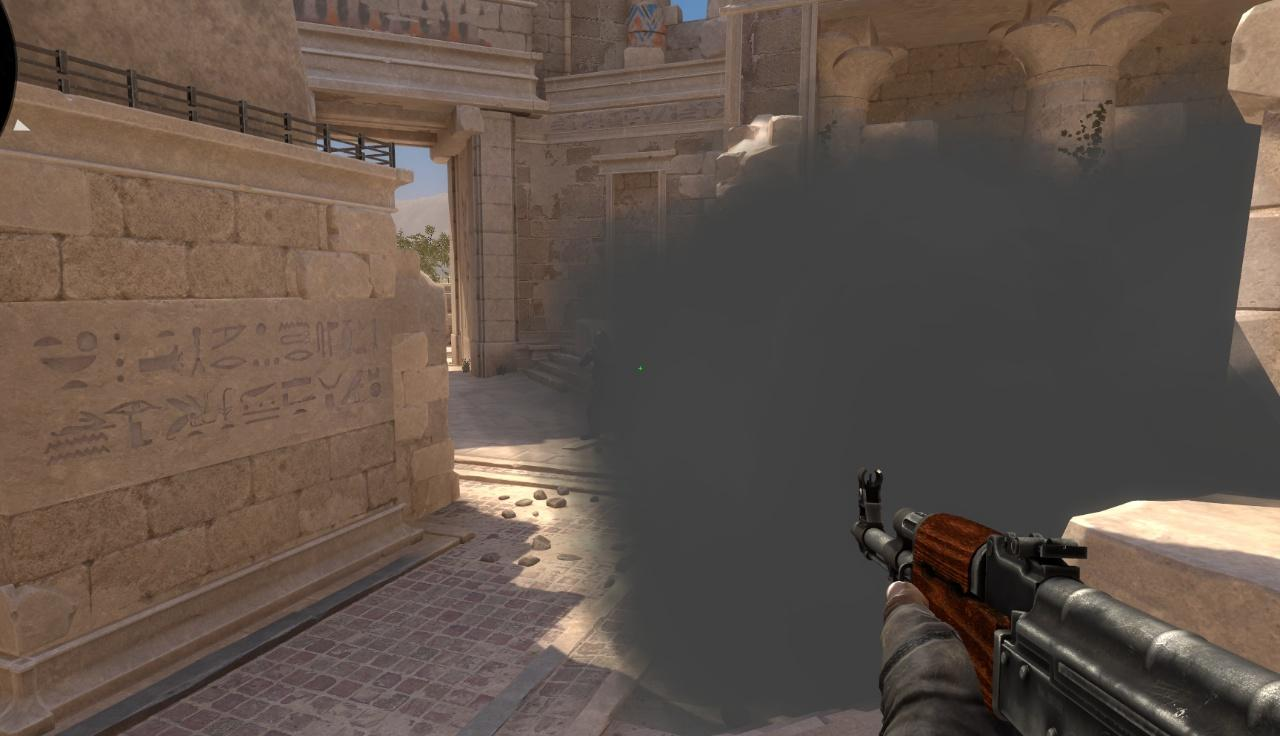ct: (578, 331, 613, 440)
rifle: (850, 465, 1280, 736)
